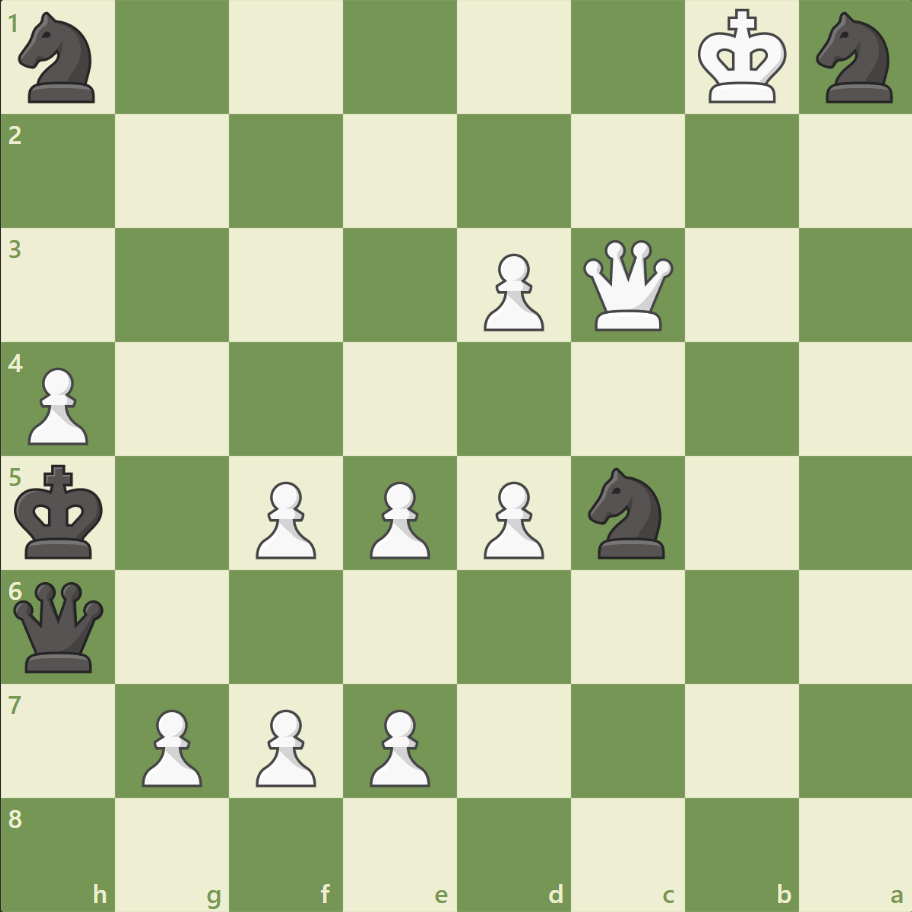K: (692, 4, 792, 112)
P: (247, 700, 322, 791), (133, 700, 208, 791), (474, 473, 549, 564), (247, 473, 322, 564), (20, 359, 95, 450), (474, 246, 549, 337), (361, 700, 435, 791), (361, 473, 435, 564)
Q: (578, 236, 677, 335)
k: (11, 458, 111, 566)
n: (579, 461, 676, 564), (806, 7, 903, 110), (11, 7, 108, 110)
q: (10, 576, 109, 676)
